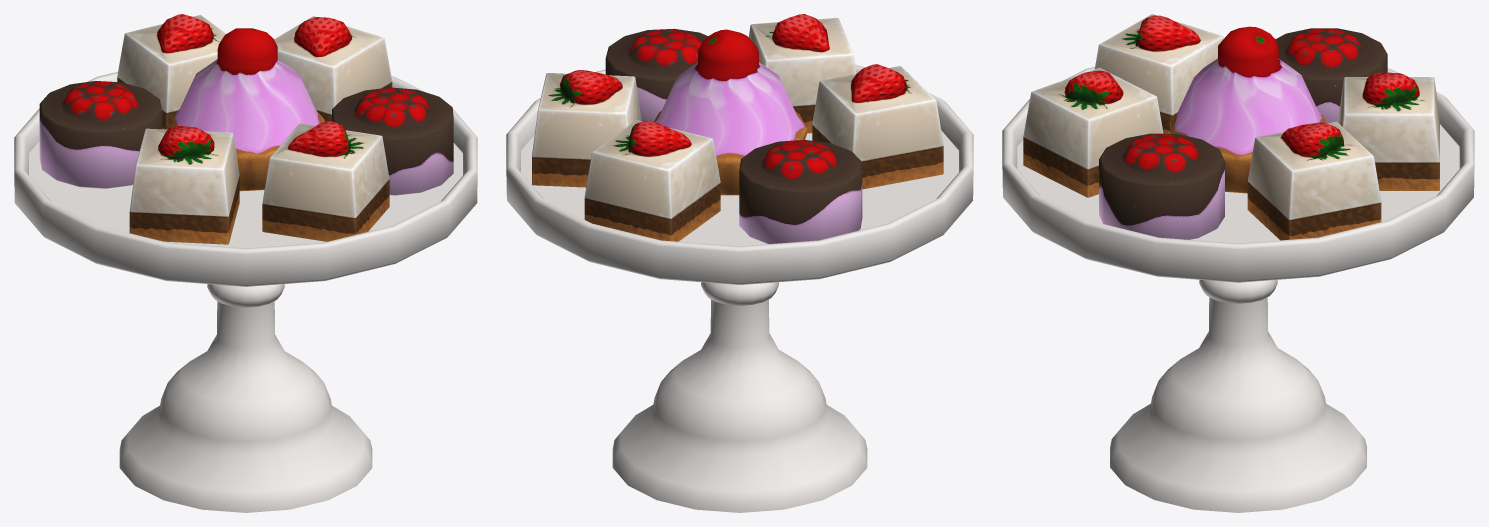
Rendered from BuffetDesserts01_3.FBX.
The picture shows the model from 3 angles, left to right: view 1: azimuth 30°, elevation 25°; view 2: azimuth 150°, elevation 25°; view 3: azimuth 270°, elevation 25°; orthographic projection.
Visible parts, largest first — view 1: BuffetDesserts01_3; view 2: BuffetDesserts01_3; view 3: BuffetDesserts01_3.
Boxes of the visible parts, box(x1,y1,x2,y2) form: BuffetDesserts01_3: box(14, 14, 477, 512); BuffetDesserts01_3: box(506, 14, 973, 512); BuffetDesserts01_3: box(1002, 14, 1474, 512).
Size of what is drawn, in the model's own units: 0.3615 by 0.3596 by 0.356.
